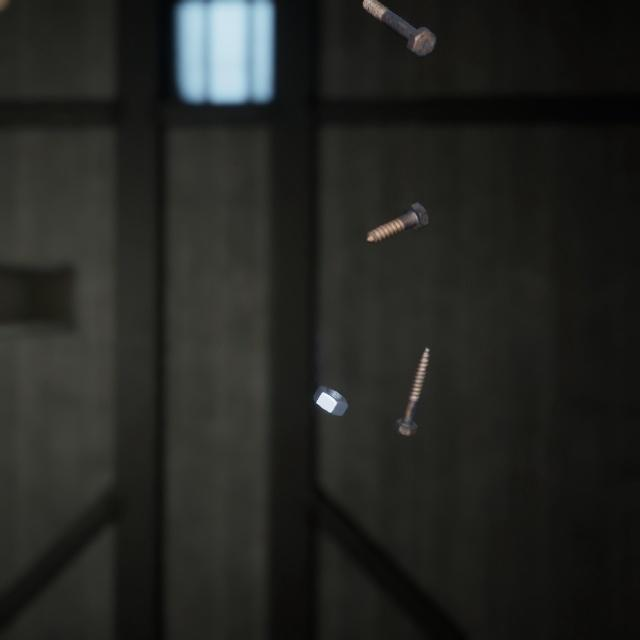bolt: (358, 0, 441, 55), (389, 324, 433, 422), (362, 183, 433, 233)
nut: (310, 361, 354, 401)
